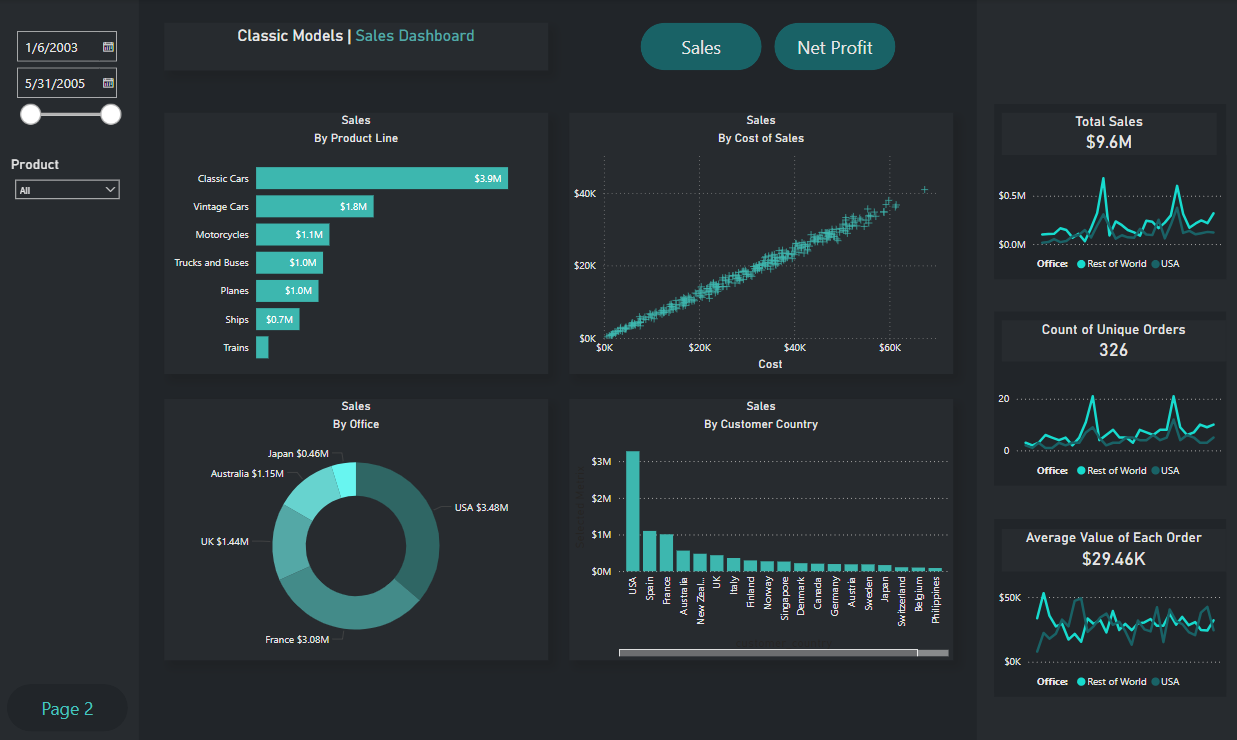

The dashboard page shown, as its layout file describes it:
{"tool":"powerbi","page":{"name":"Sales Overview - Page 1","canvas":[1500,900],"ordinal":0},"visuals":[{"type":"shape","box":[0,0,170,900.5],"z":0},{"type":"shape","box":[1180.3,0,320,900.5],"z":1000},{"type":"shape","box":[1201.2,127,279.8,210],"z":2000},{"type":"shape","box":[1201.2,377.1,279.8,210],"z":3000},{"type":"shape","box":[1201.2,627.1,279.8,210],"z":4000},{"type":"card","title":"Total Sales","fields":{"Values":["Sum(classicmodels sales_data_for_poer_bi.sales_value)"]},"box":[1210.9,136.7,258.9,51.5],"z":5000},{"type":"card","title":"Count of Unique Orders","fields":{"Values":["Count(classicmodels sales_data_for_poer_bi.orderNumber)"]},"box":[1210.9,387.5,270.2,51.5],"z":6000},{"type":"card","title":"Average Value of Each Order","fields":{"Values":["classicmodels sales_data_for_poer_bi.averga_sales_value_per_order"]},"box":[1210.9,640,270.2,51.5],"z":7000},{"type":"lineChart","fields":{"Y":["Sum(classicmodels sales_data_for_poer_bi.sales_value)"],"Category":["classicmodels sales_data_for_poer_bi.orderDate.Variation.Date Hierarchy.Year","classicmodels sales_data_for_poer_bi.orderDate.Variation.Date Hierarchy.Quarter","classicmodels sales_data_for_poer_bi.orderDate.Variation.Date Hierarchy.Month"],"Series":["classicmodels sales_data_for_poer_bi.Office Grouped"]},"box":[1201.2,188.1,279.8,149.6],"z":8000},{"type":"lineChart","fields":{"Category":["classicmodels sales_data_for_poer_bi.orderDate.Variation.Date Hierarchy.Year","classicmodels sales_data_for_poer_bi.orderDate.Variation.Date Hierarchy.Quarter","classicmodels sales_data_for_poer_bi.orderDate.Variation.Date Hierarchy.Month"],"Series":["classicmodels sales_data_for_poer_bi.Office Grouped"],"Y":["Count(classicmodels sales_data_for_poer_bi.orderNumber)"]},"box":[1201.2,437.4,279.8,149.6],"z":9000},{"type":"lineChart","fields":{"Category":["classicmodels sales_data_for_poer_bi.orderDate.Variation.Date Hierarchy.Year","classicmodels sales_data_for_poer_bi.orderDate.Variation.Date Hierarchy.Quarter","classicmodels sales_data_for_poer_bi.orderDate.Variation.Date Hierarchy.Month"],"Series":["classicmodels sales_data_for_poer_bi.Office Grouped"],"Y":["classicmodels sales_data_for_poer_bi.averga_sales_value_per_order"]},"box":[1201.2,691.5,279.8,149.6],"z":10000},{"type":"clusteredBarChart","fields":{"Y":["Table.Selected Metrix"],"Category":["classicmodels sales_data_for_poer_bi.productLine"]},"box":[200.6,137.2,463,315.2],"z":11000},{"type":"actionButton","box":[775.1,28.7,146.3,57.3],"z":12000},{"type":"actionButton","box":[936.5,28.7,146.3,57.3],"z":13000},{"type":"donutChart","fields":{"Y":["Table.Selected Metrix"],"Category":["classicmodels sales_data_for_poer_bi.office_country"]},"box":[200.6,482.6,463,315.2],"z":15000},{"type":"columnChart","fields":{"Category":["classicmodels sales_data_for_poer_bi.customer_country"],"Y":["Table.Selected Metrix"]},"box":[689.2,482.6,463,315.2],"z":16000},{"type":"scatterChart","fields":{"X":["Table.Selected Metrix"],"Y":["Sum(classicmodels sales_data_for_poer_bi.cost_of_sales)"],"Category":["classicmodels sales_data_for_poer_bi.orderNumber"]},"box":[689.2,137.2,463,315.2],"z":17000},{"type":"textbox","box":[200.6,28.7,463,57.3],"z":18000},{"type":"actionButton","box":[10.6,826.4,146.3,57.3],"z":19000},{"type":"slicer","fields":{"Values":["classicmodels sales_data_for_poer_bi.orderDate"]},"box":[10.6,28.7,146.3,134.2],"z":20000},{"type":"slicer","title":"Product","fields":{"Values":["classicmodels sales_data_for_poer_bi.productName"]},"box":[10.6,188.5,146.3,134.2],"z":21000}]}

Visuals, with their boxes in screenshot pixels (x1, y1, x2, y2), scaled from the page's 1500x900 canvas onto the 1237x740 screenshot:
shape: 0/0/140/739
shape: 973/0/1236/739
shape: 991/104/1221/277
shape: 991/310/1221/483
shape: 991/516/1221/688
"Total Sales" card: 999/112/1212/155
"Count of Unique Orders" card: 999/319/1221/361
"Average Value of Each Order" card: 999/526/1221/569
lineChart - Sum(classicmodels sales_data_for_poer_bi.sales_value) x classicmodels sales_data_for_poer_bi.orderDate.Variation.Date Hierarchy.Year: 991/155/1221/278
lineChart - classicmodels sales_data_for_poer_bi.orderDate.Variation.Date Hierarchy.Year x classicmodels sales_data_for_poer_bi.orderDate.Variation.Date Hierarchy.Quarter: 991/360/1221/483
lineChart - classicmodels sales_data_for_poer_bi.orderDate.Variation.Date Hierarchy.Year x classicmodels sales_data_for_poer_bi.orderDate.Variation.Date Hierarchy.Quarter: 991/569/1221/692
clusteredBarChart - Table.Selected Metrix x classicmodels sales_data_for_poer_bi.productLine: 165/113/547/372
actionButton: 639/24/760/71
actionButton: 772/24/893/71
donutChart - Table.Selected Metrix x classicmodels sales_data_for_poer_bi.office_country: 165/397/547/656
columnChart - classicmodels sales_data_for_poer_bi.customer_country x Table.Selected Metrix: 568/397/950/656
scatterChart - Table.Selected Metrix x Sum(classicmodels sales_data_for_poer_bi.cost_of_sales): 568/113/950/372
textbox: 165/24/547/71
actionButton: 9/679/129/727
slicer - classicmodels sales_data_for_poer_bi.orderDate: 9/24/129/134
"Product" slicer: 9/155/129/265
